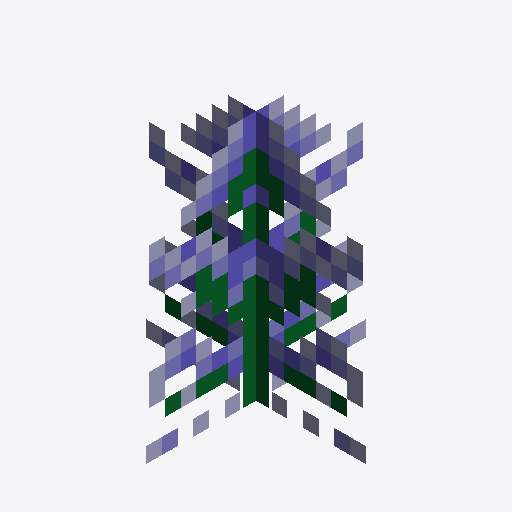
A Minecraft block model of 86 cuboids, rendered isometrically (azimuth 45°, elevation 35.3°) with the resource pack's own textures.
Parts seen in each view (by area): TopStalk (×2), element 4, element 47, element 18, element 65, element 19, element 66, element 38, element 79, element 40, element 75, element 17 (+27 smaller).
Boxes of the visible parts, box(x1,y1,x2,y2) form: TopStalk (×2): box(243, 104, 268, 407); element 4: box(269, 119, 283, 217); element 47: box(228, 119, 242, 217); element 18: box(284, 236, 299, 316); element 65: box(212, 236, 227, 316); element 19: box(300, 227, 315, 307); element 66: box(196, 227, 211, 307); element 38: box(269, 336, 299, 389); element 79: box(212, 336, 242, 389); element 40: box(316, 327, 346, 380); element 75: box(165, 327, 195, 380); element 17: box(269, 246, 283, 325).
Size of the model in its own units: 14 by 16 by 14.